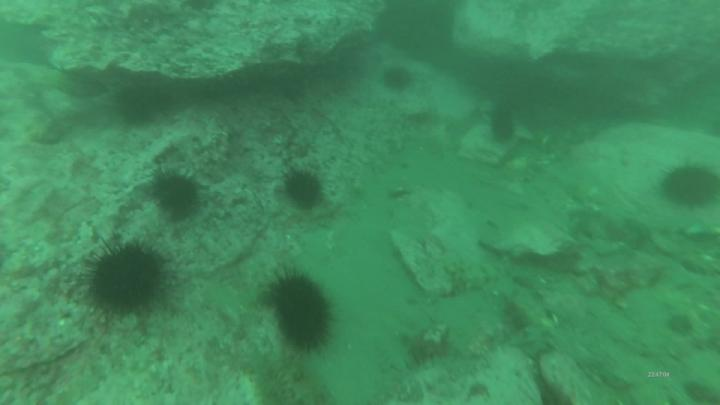echinus: (76, 230, 176, 329), (264, 264, 336, 359), (143, 165, 205, 227), (657, 155, 720, 213), (109, 84, 165, 130), (282, 165, 326, 215), (487, 107, 517, 145), (379, 65, 416, 95)
holothurian: (372, 351, 488, 402), (260, 364, 336, 405), (452, 254, 518, 295)
